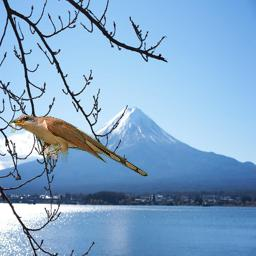Cuckoo: (7, 114, 148, 177)
